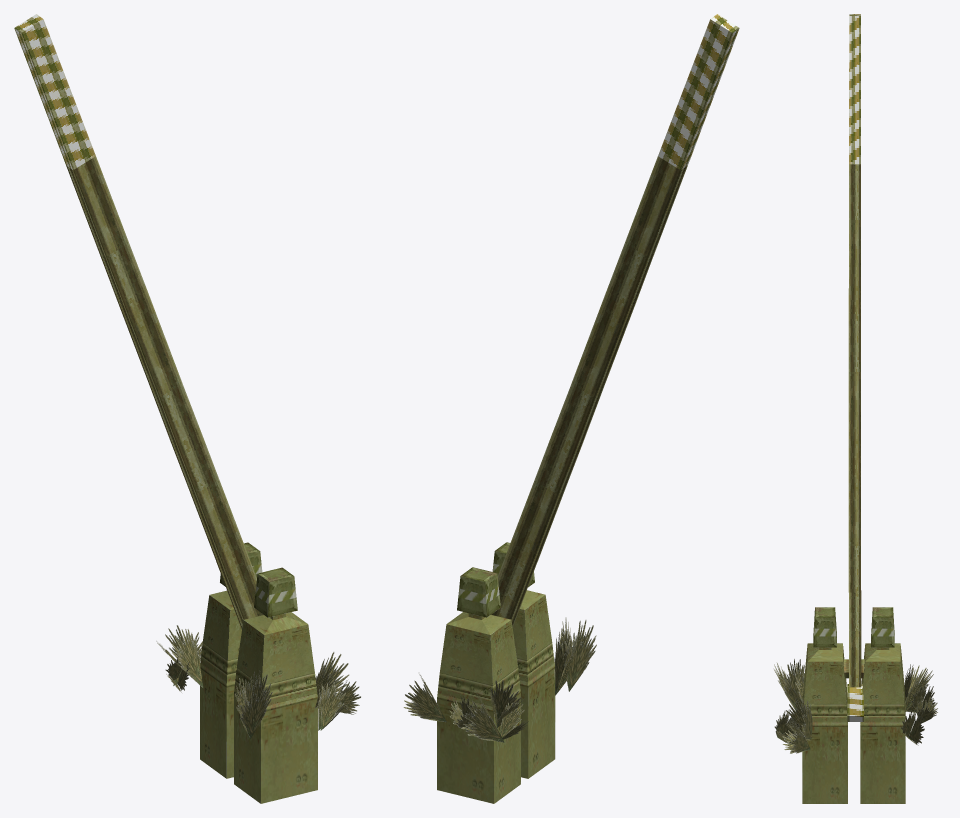
The model's file is C1SMCHECKopen.obj.
3 renders of one model, left to right at view 1: azimuth 30°, elevation 25°; view 2: azimuth 150°, elevation 25°; view 3: azimuth 270°, elevation 25°, orthographic. The views are drawn at different scales.
Visible parts, largest first — view 1: Node 0; view 2: Node 0; view 3: Node 0.
Boxes of the visible parts, box(x1,y1,x2,y2) form: Node 0: box(14, 14, 360, 803); Node 0: box(403, 14, 739, 803); Node 0: box(773, 14, 937, 803).
Bounding box in the file's own units: 11.06 × 27.42 × 6.44.
Materials: 5 (5 with a texture image).
